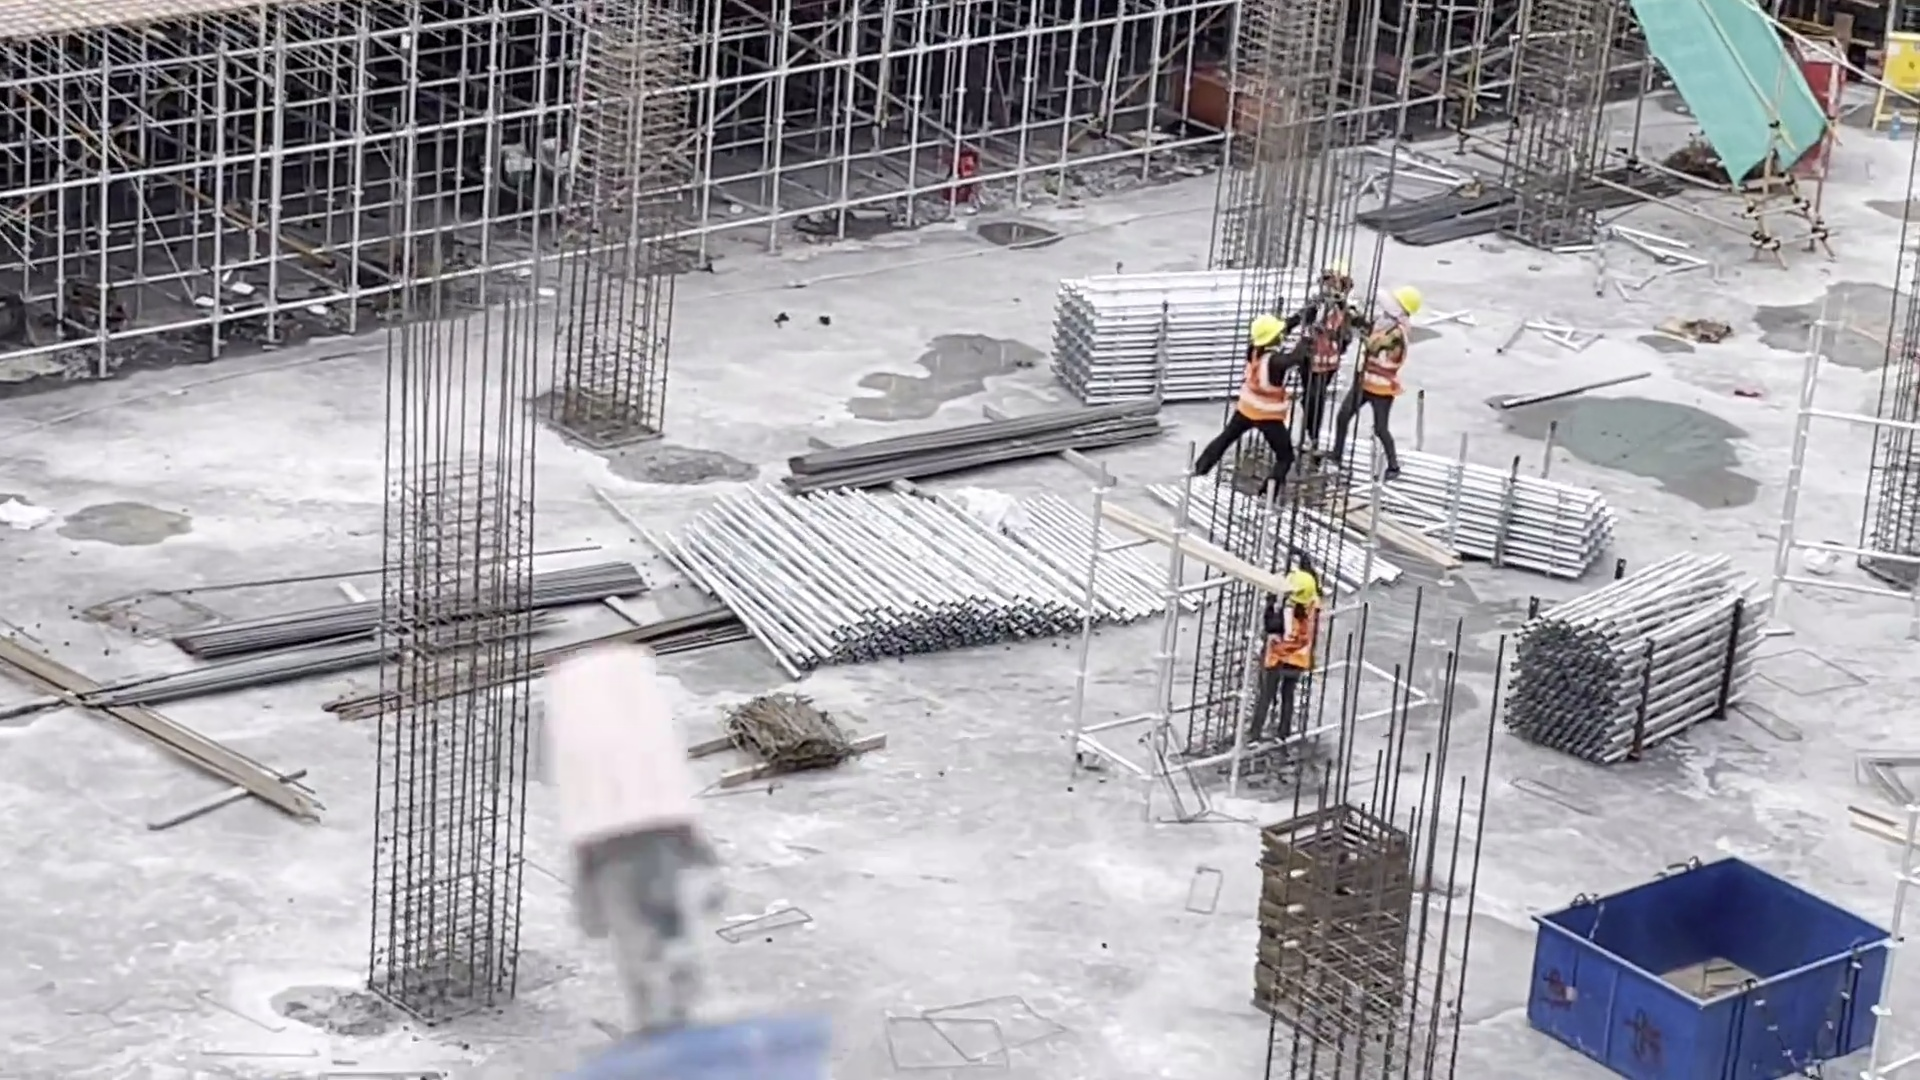helmet: (1244, 319, 1292, 345), (1282, 572, 1315, 605), (1395, 282, 1422, 316), (1318, 264, 1349, 290)
hopper: (1521, 846, 1891, 1080)
person: (1346, 279, 1423, 485), (1225, 319, 1295, 482), (1255, 564, 1317, 746), (1292, 264, 1345, 412)
rebar: (176, 556, 641, 669), (332, 611, 743, 734), (778, 383, 1165, 485)
scaffold: (648, 458, 1149, 693), (1504, 553, 1777, 767), (1284, 438, 1623, 563), (1052, 268, 1366, 400)
vest: (1234, 348, 1289, 428), (1359, 330, 1412, 402), (1262, 598, 1314, 669), (1306, 304, 1350, 382)
